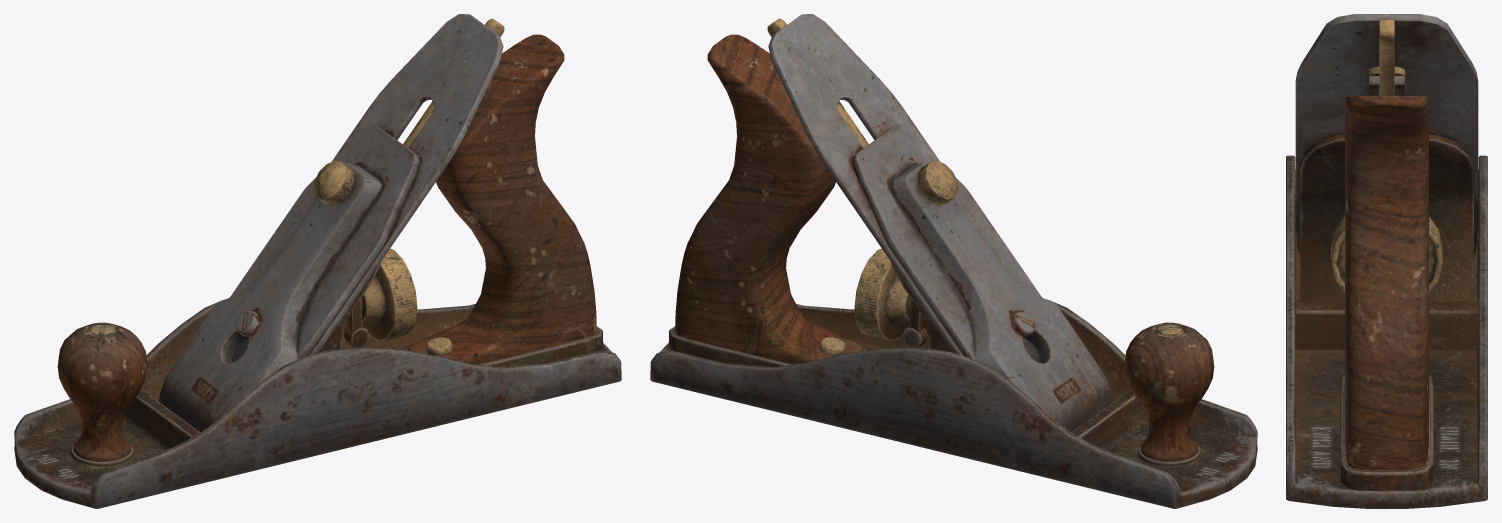
Rendered from hand_plane_no4.fbx.
3 views of the same model, side by side, from view 1: azimuth 30°, elevation 25°; view 2: azimuth 150°, elevation 25°; view 3: azimuth 270°, elevation 25° (orthographic). The views are drawn at different scales.
Visible parts, largest first — view 1: hand_plane_no4.001; view 2: hand_plane_no4.001; view 3: hand_plane_no4.001.
Boxes of the visible parts, left/top/right/bottom form: hand_plane_no4.001: left=14, top=14, right=621, bottom=508; hand_plane_no4.001: left=650, top=14, right=1257, bottom=508; hand_plane_no4.001: left=1286, top=14, right=1487, bottom=508.
Bounding box in the file's own units: 33.08 × 19.78 × 8.43.
